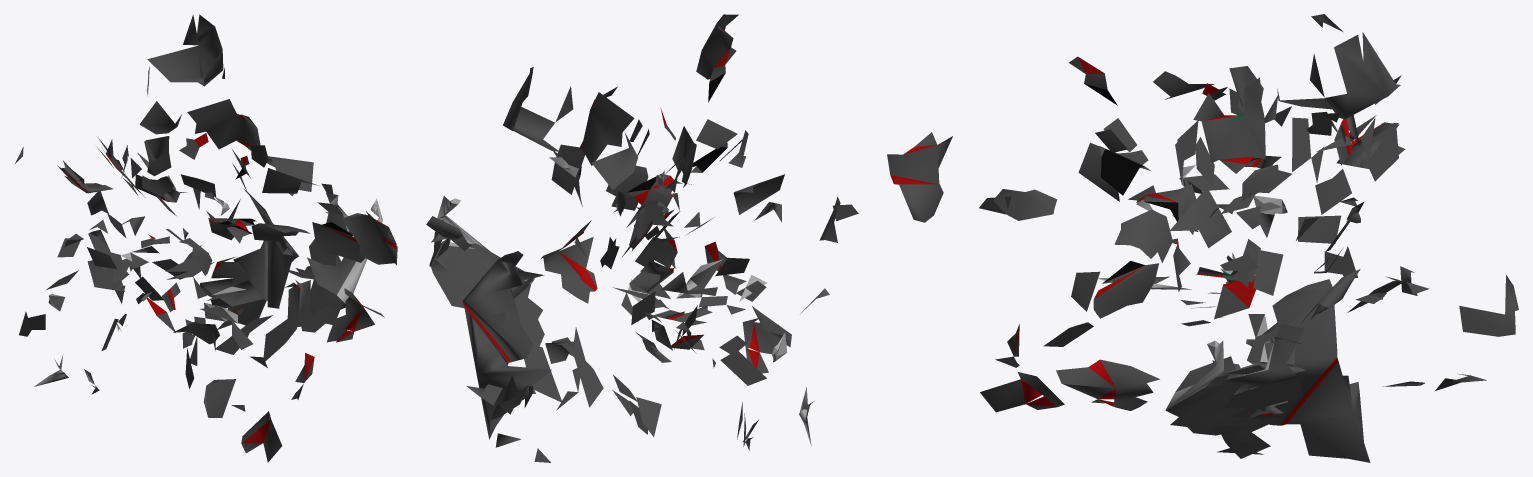
File: spacecraftExplosion_000007.obj
3 renders of one model, left to right at view 1: azimuth 30°, elevation 25°; view 2: azimuth 150°, elevation 25°; view 3: azimuth 270°, elevation 25°, orthographic. The views are drawn at different scales.
Parts seen in each view (by area): view 1: Cube; view 2: Cube; view 3: Cube.
Part boxes in pixels (x1,y1,x2,y2): Cube: [15, 14, 397, 462]; Cube: [426, 14, 858, 462]; Cube: [887, 14, 1518, 462].
Size of the model in its own units: 10.68 by 10.1 by 13.62.
